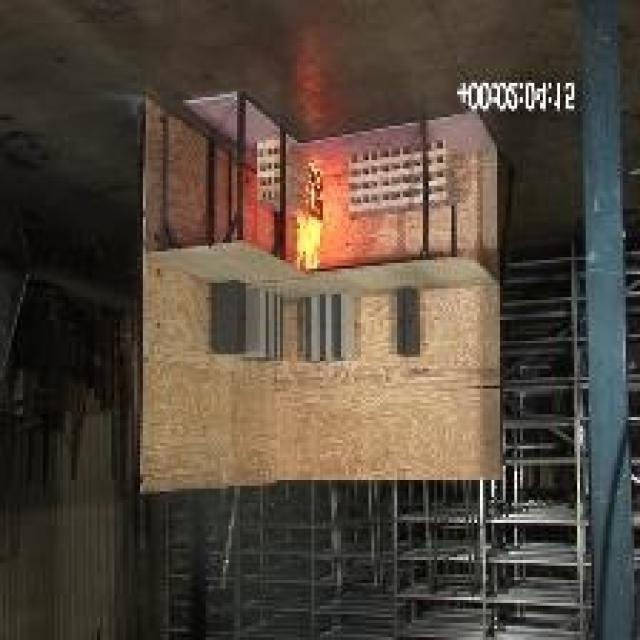fire: (286, 188, 337, 286)
